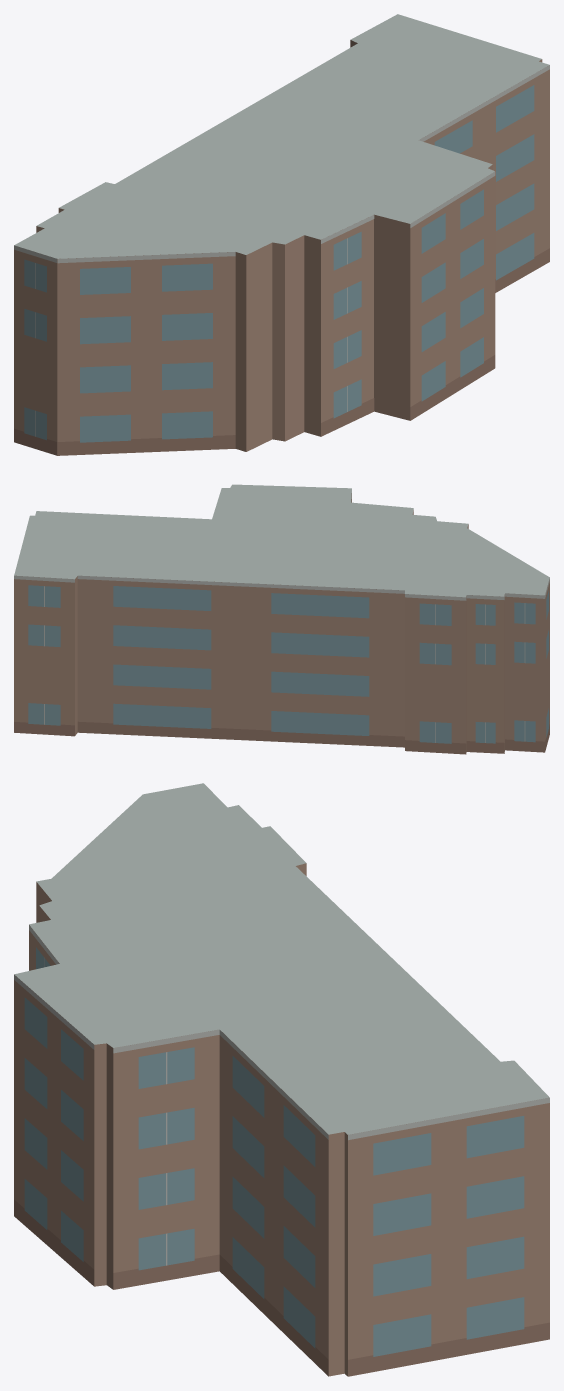
File: survey-upis-32604141.glb
3 renders of one model, top to bottom at view 1: azimuth 30°, elevation 25°; view 2: azimuth 150°, elevation 25°; view 3: azimuth 270°, elevation 25°, orthographic. The views are drawn at different scales.
Parts seen in each view (by area): view 1: survey-upis-32604141.tmp; view 2: survey-upis-32604141.tmp; view 3: survey-upis-32604141.tmp.
Part boxes in pixels (left/top/right/bottom): survey-upis-32604141.tmp: left=14, top=14, right=549, bottom=455; survey-upis-32604141.tmp: left=14, top=484, right=549, bottom=754; survey-upis-32604141.tmp: left=14, top=783, right=549, bottom=1376.
Bounding box in the file's own units: 34.32 × 11 × 22.1.
